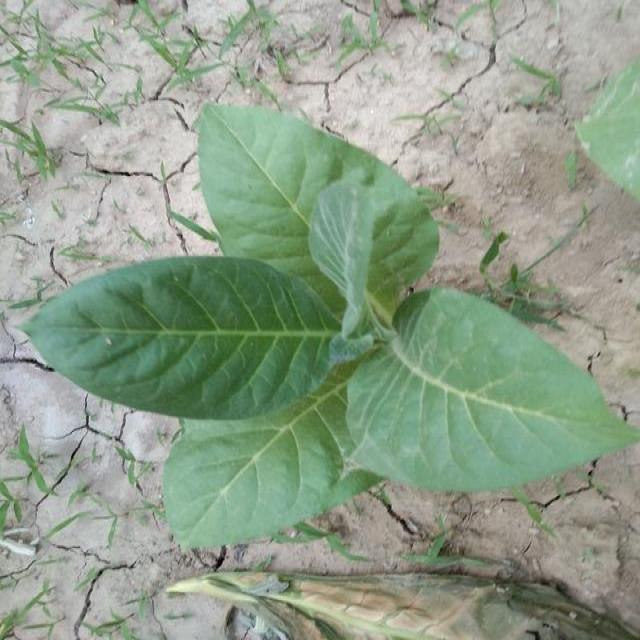crop: (22, 92, 640, 540)
